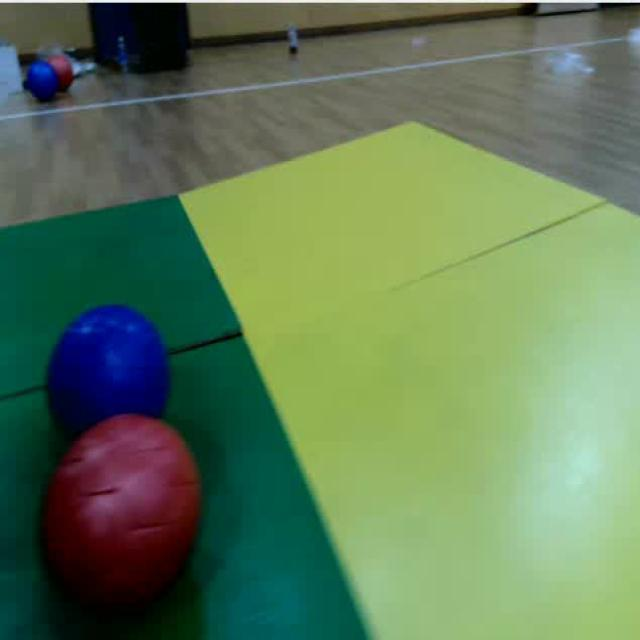blue_ball: (46, 301, 175, 415), (28, 62, 54, 103)
red_ball: (38, 416, 202, 625), (58, 49, 72, 96)
